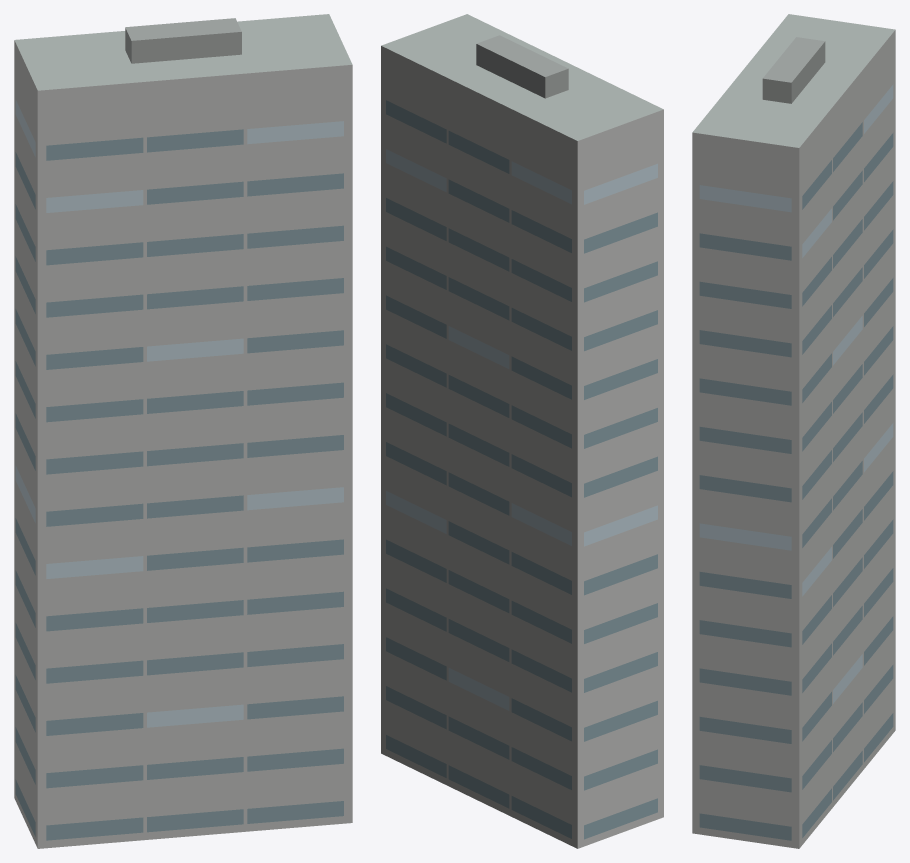
Rendered from fallback-jamsil-els-144.glb.
3 renders of one model, left to right at view 1: azimuth 30°, elevation 25°; view 2: azimuth 150°, elevation 25°; view 3: azimuth 270°, elevation 25°, orthographic. The views are drawn at different scales.
Parts seen in each view (by area): view 1: fallback-jamsil-els-144; view 2: fallback-jamsil-els-144; view 3: fallback-jamsil-els-144.
Part boxes in pixels (left/top/right/bottom): fallback-jamsil-els-144: left=14, top=14, right=352, bottom=848; fallback-jamsil-els-144: left=381, top=14, right=663, bottom=848; fallback-jamsil-els-144: left=692, top=14, right=895, bottom=848.
Size of the model in its own units: 32.65 by 82 by 20.93.
